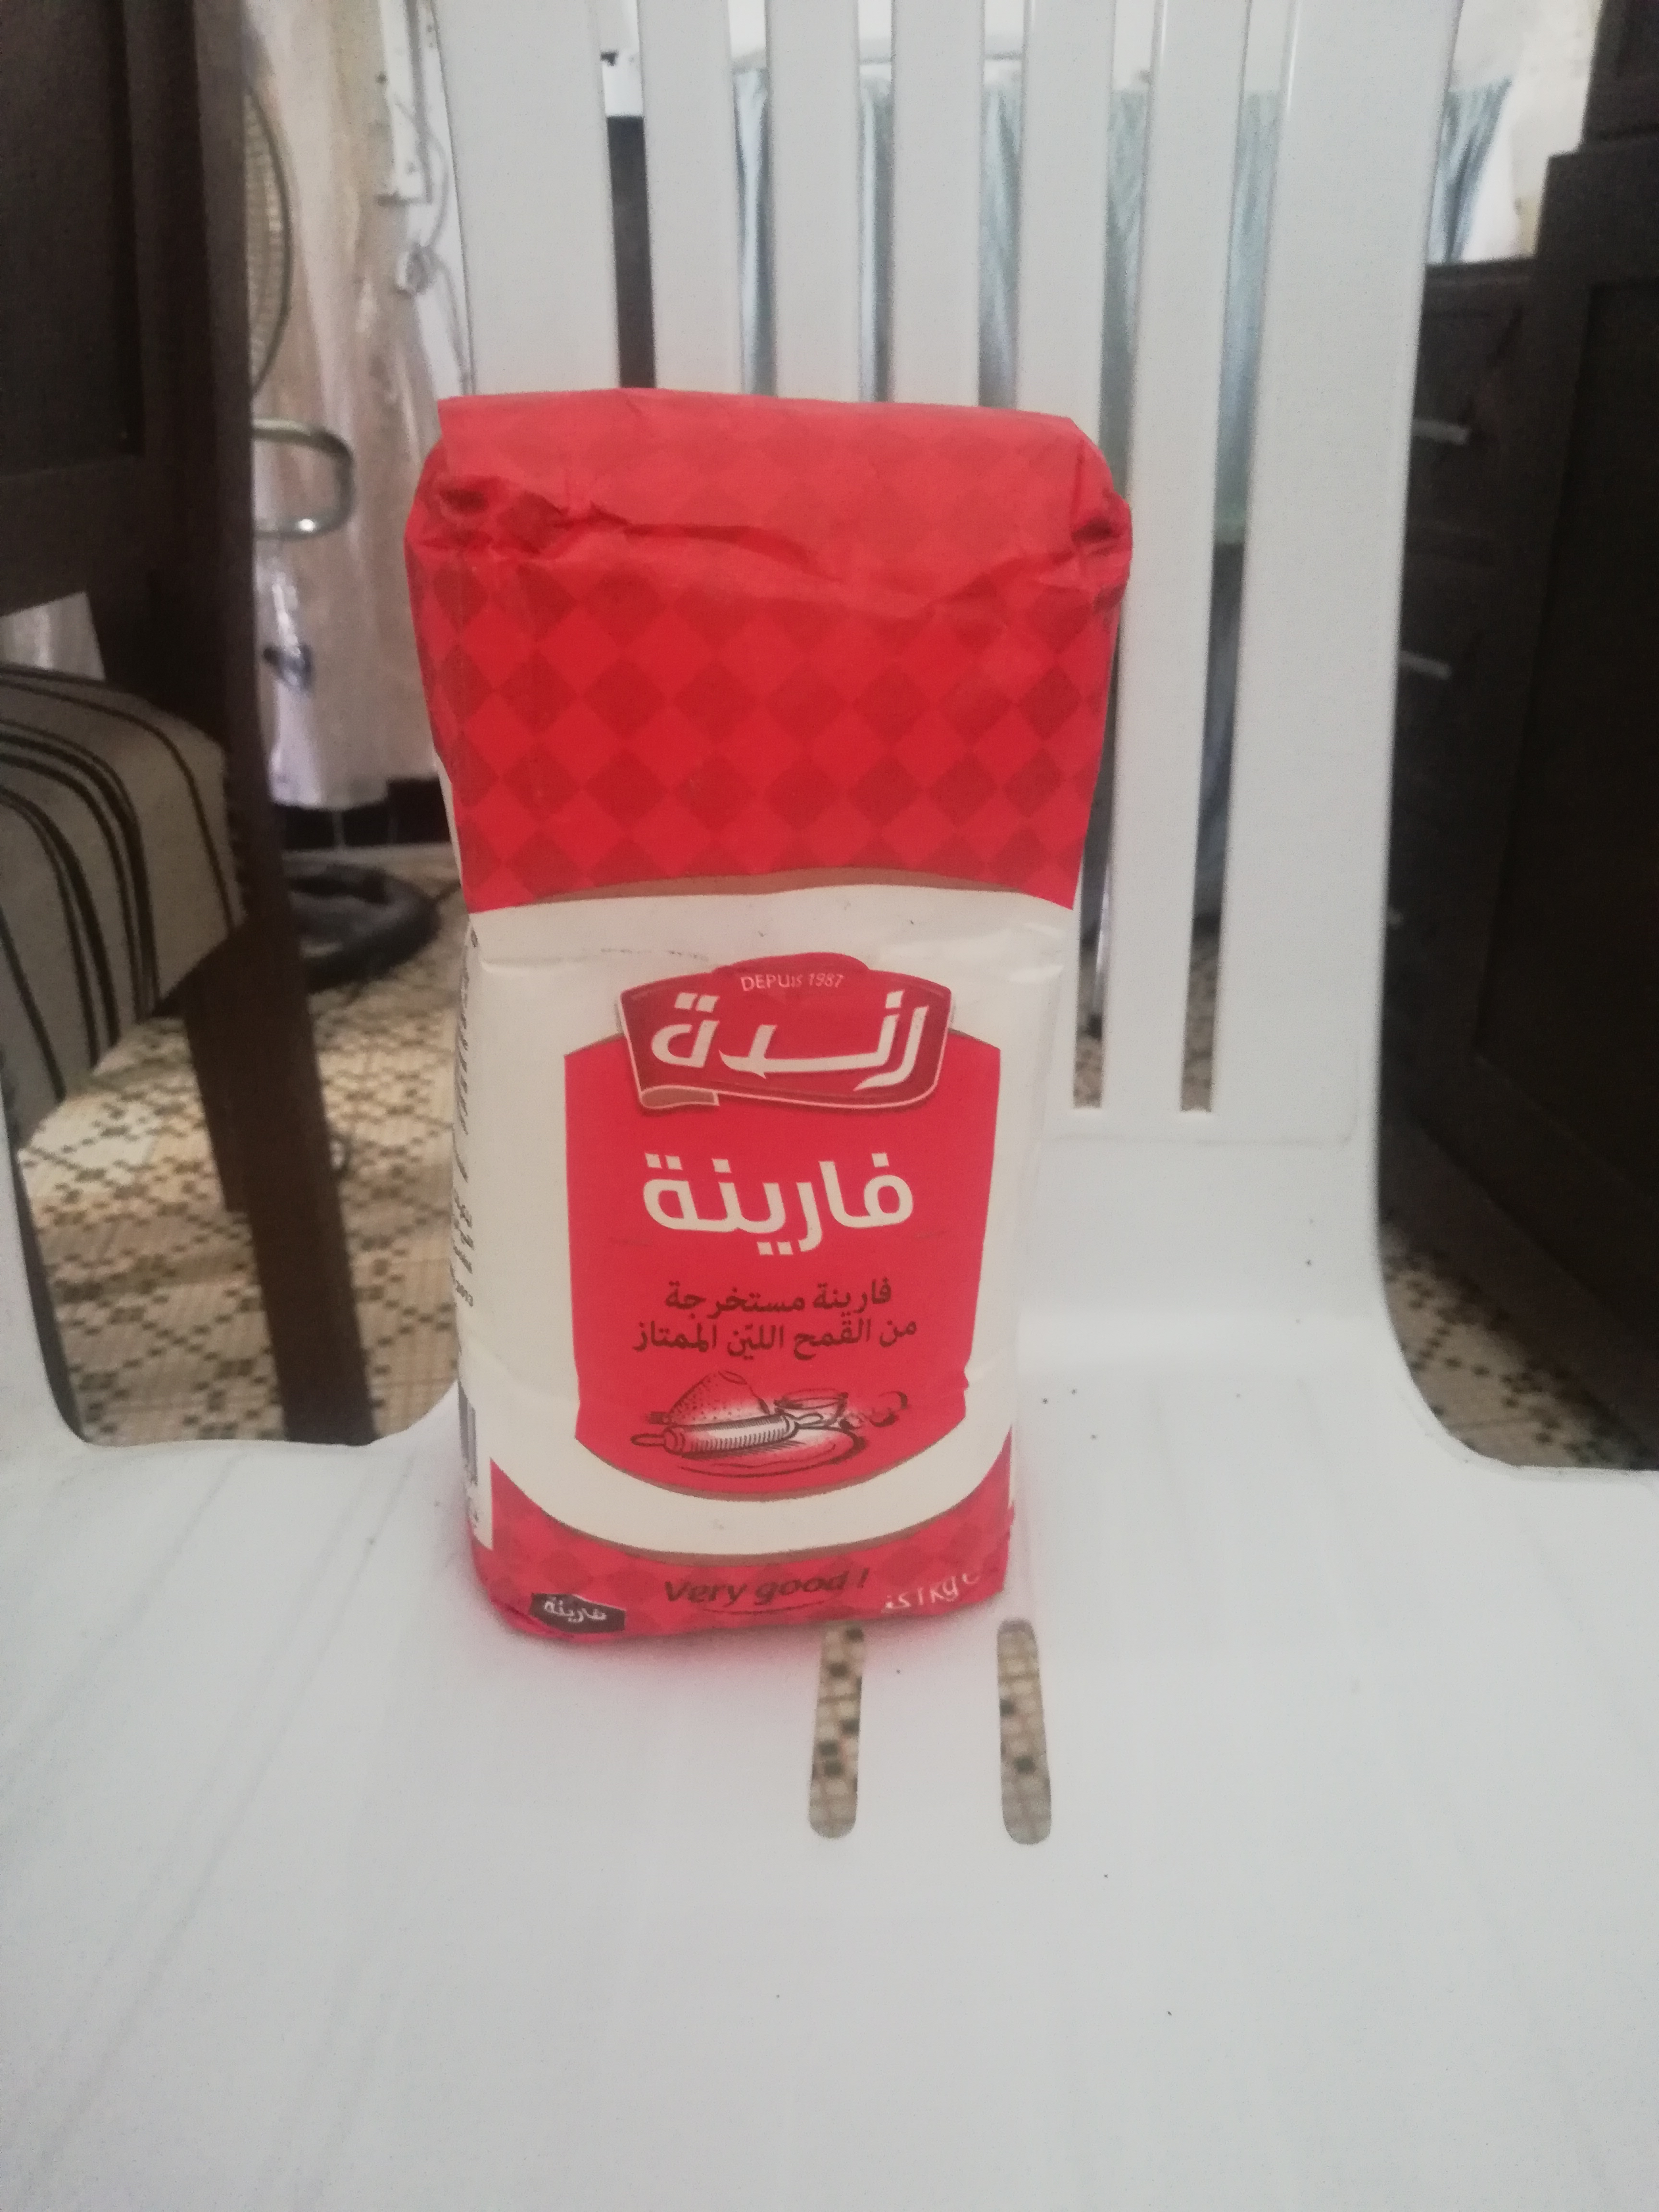Farine Randa: (411, 385, 1134, 1641)
